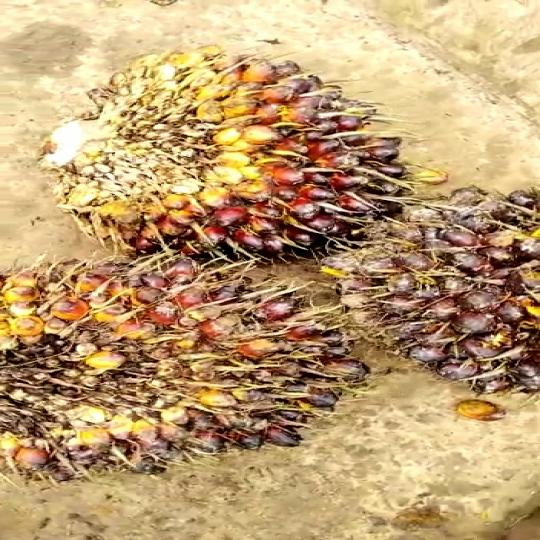kurang masak: (0, 268, 365, 474), (56, 53, 436, 249), (319, 187, 540, 402)
